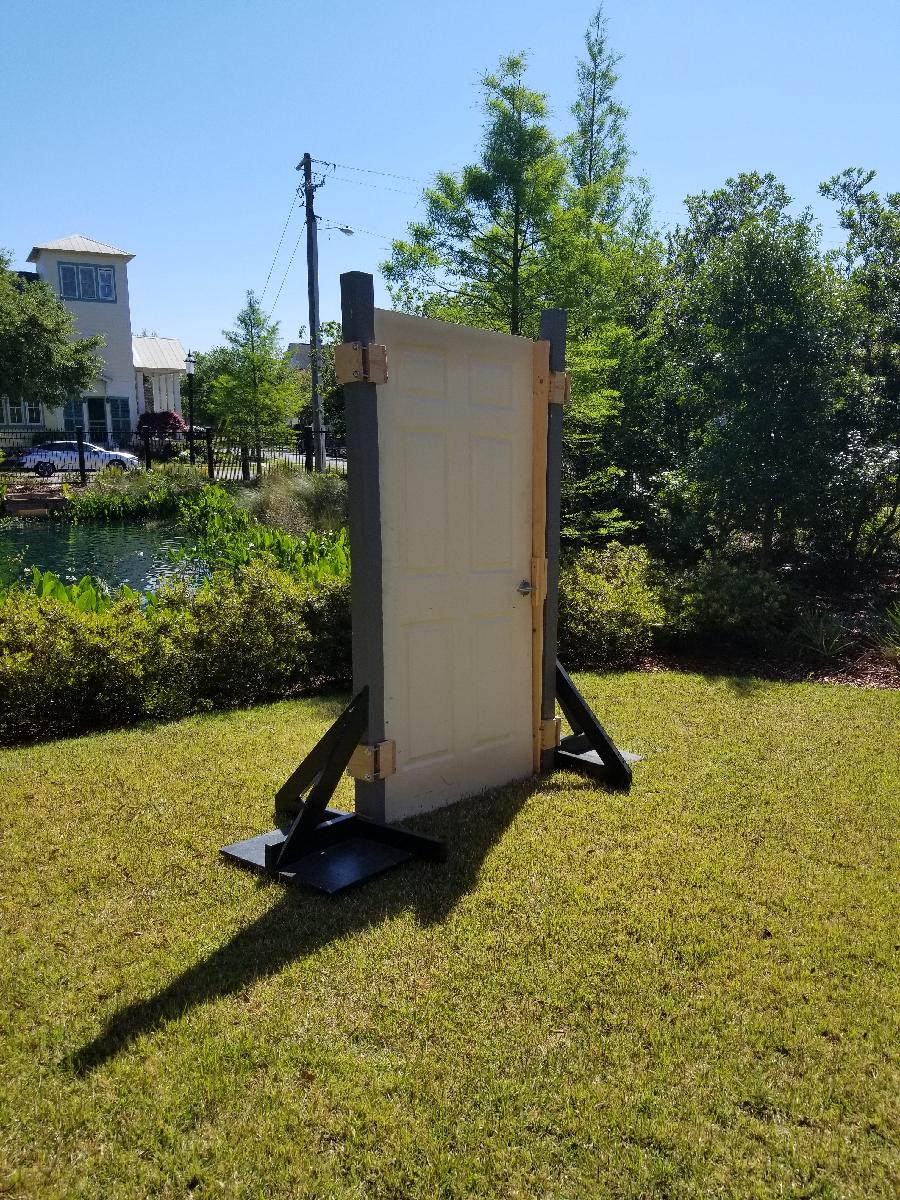door: (368, 302, 540, 831)
doorHandle: (515, 580, 538, 603)
